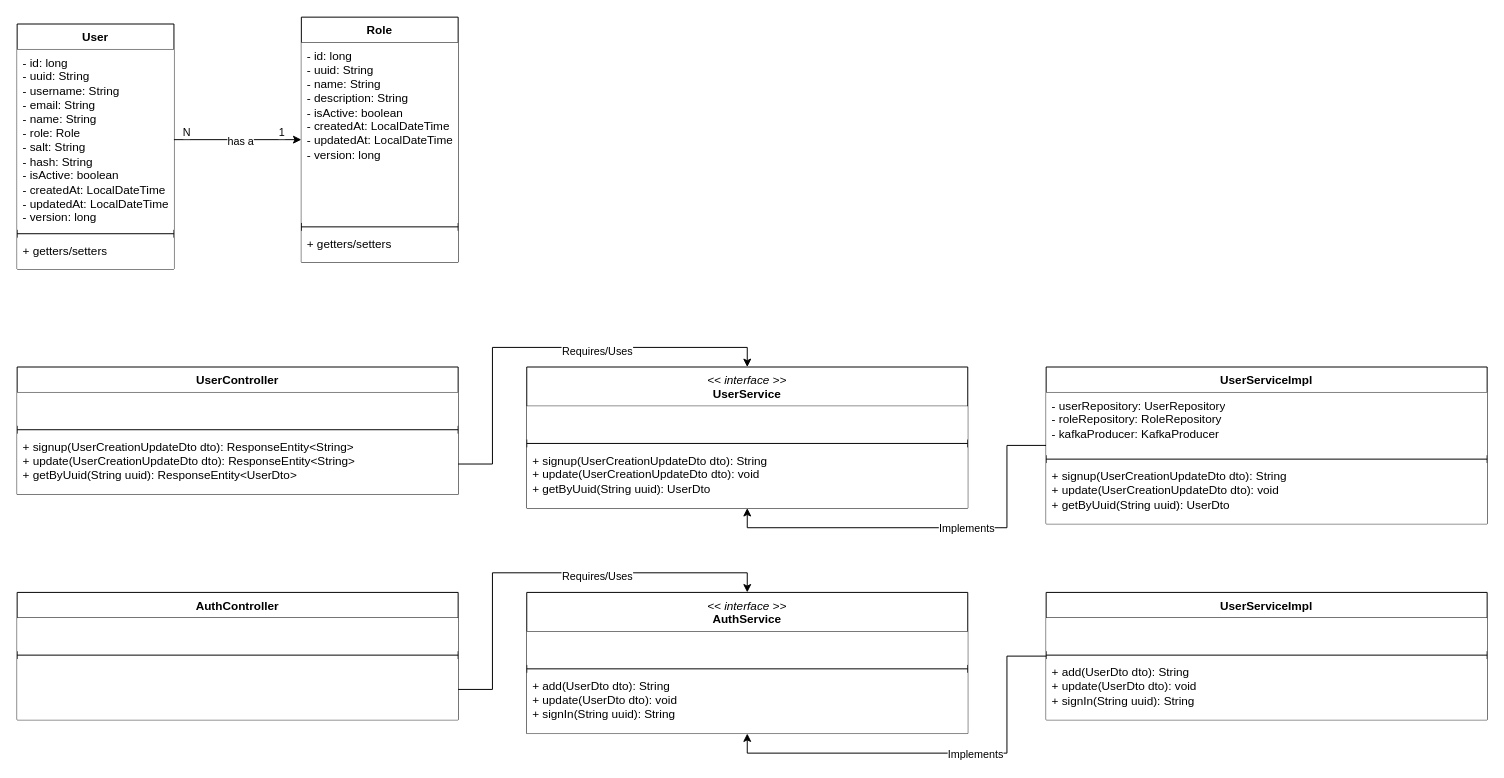
Image size: 1504x778. Some labels were removed from this diagram. The shapes that lost their labels are listed below. From the top down, each one's centre as x and y in pixels, then its label:
At point 237,408: "- userService: UserService".
At point 237,634: "- authService: AuthService".
At point 1266,634: "- authRepository: AuthRepository".
At point 237,689: "+ signIn(SignInDto dto): ResponseEntity<String>".
